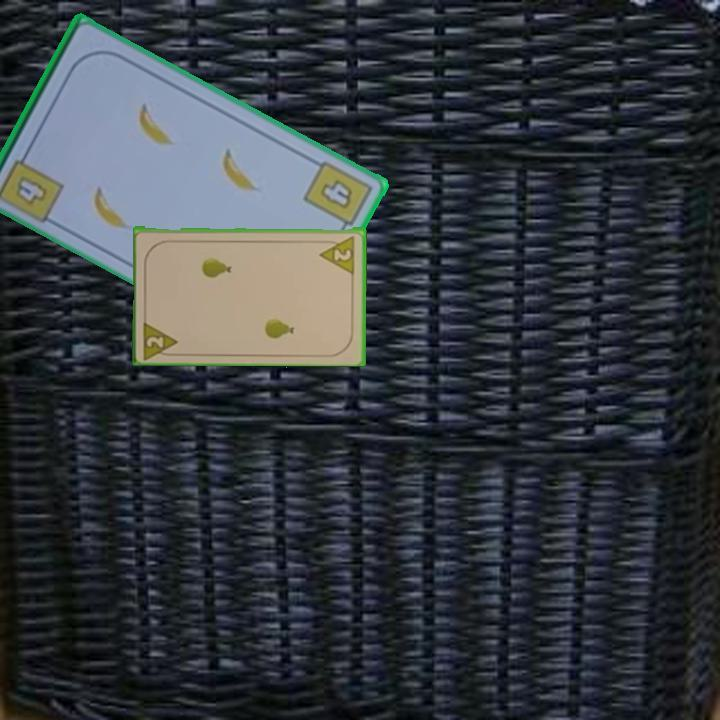2p: (140, 316, 182, 360), (317, 232, 357, 275)
4b: (300, 157, 375, 237), (12, 172, 51, 208)
